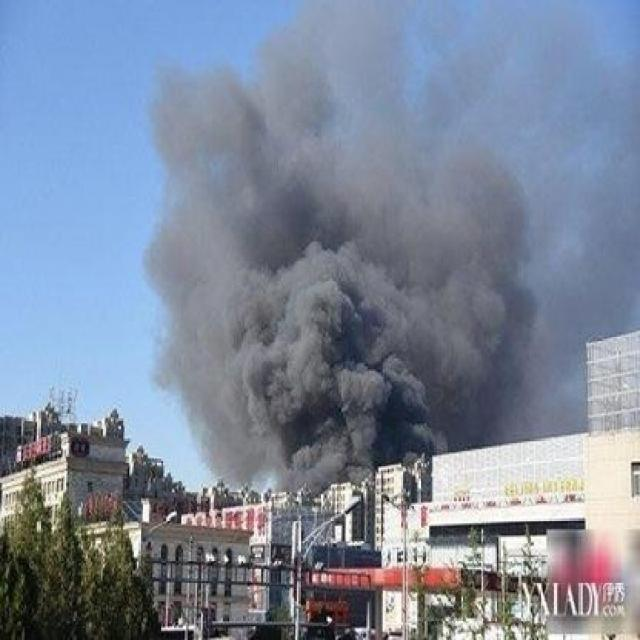Smoke: (121, 20, 516, 478)
